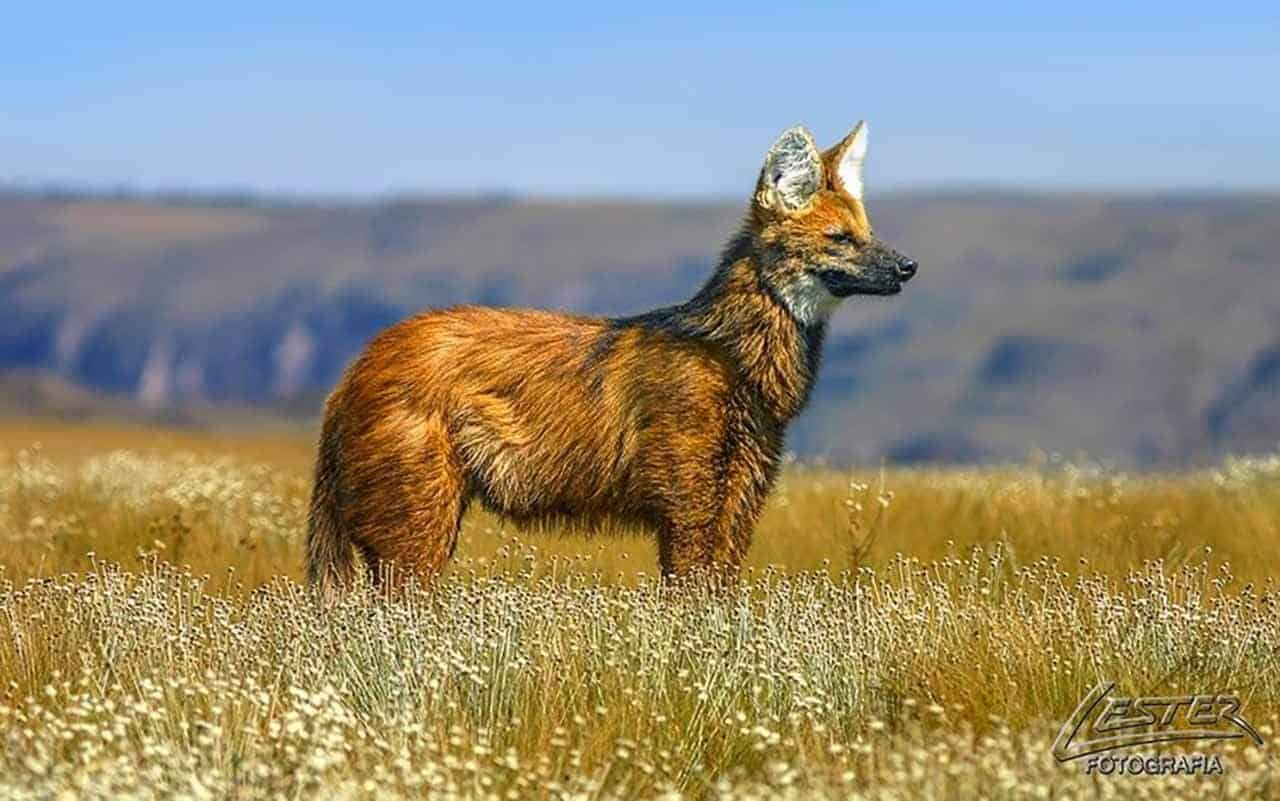LoboGuara: (287, 106, 930, 598)
